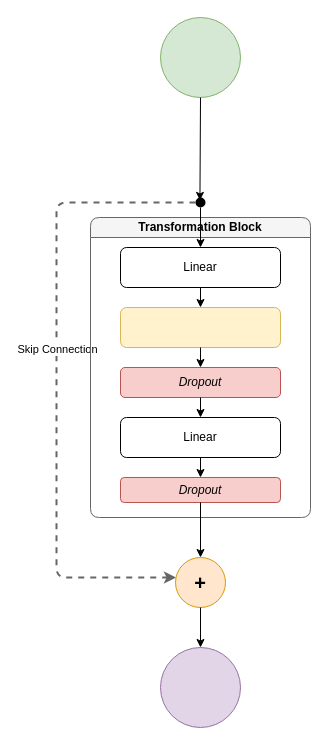
Some shapes in this 328 by 745 pixel diagram are drawn without their labels. Each missing label, with the centre of its shape:
Aligned Z': point (200, 687)
LayerNorm + GELU: point (200, 327)
Student Z_S: point (200, 57)
